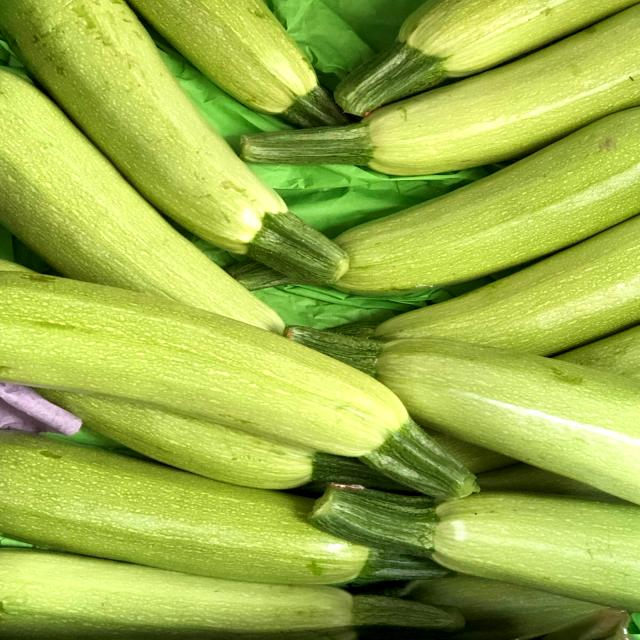zucchini: (4, 268, 488, 505), (5, 1, 360, 288), (5, 426, 452, 594)
